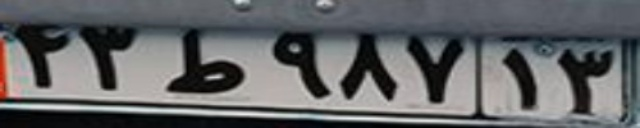1: (503, 48, 536, 109)
3: (78, 21, 143, 91), (555, 48, 613, 114)
4: (11, 22, 73, 89)
7: (407, 33, 466, 103)
8: (340, 31, 399, 101)
9: (266, 28, 328, 98)
taa: (156, 25, 246, 94)
